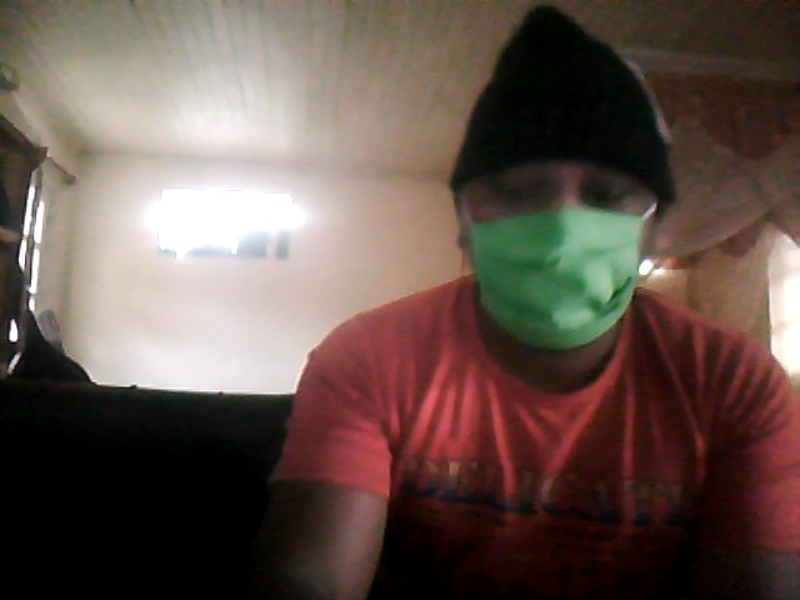TsisyArotava: (446, 16, 698, 366)
